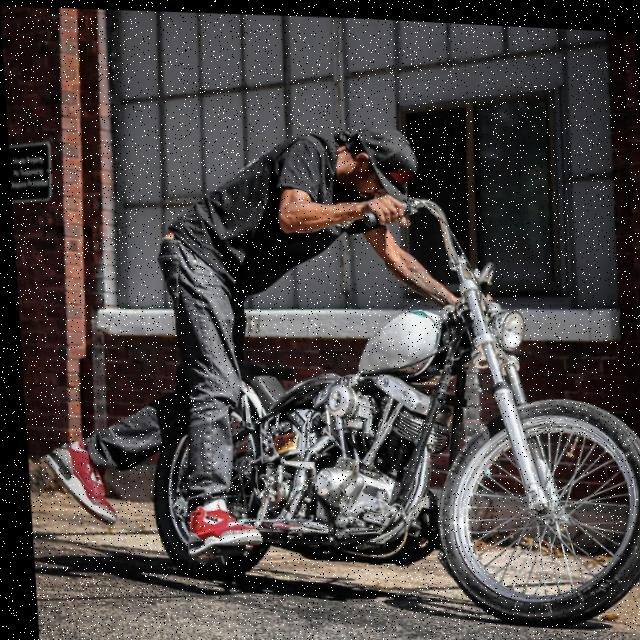illegal_helmet: (329, 114, 421, 202)
